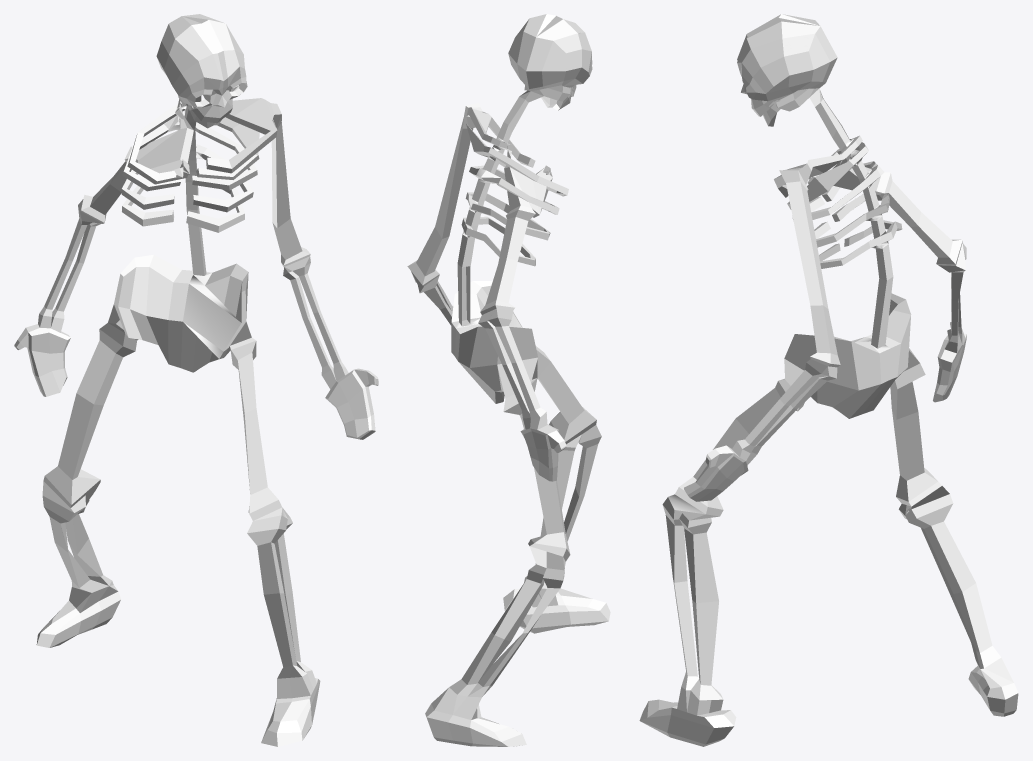
Rendered from SkeletonIdle(2).obj.
3 renders of one model, left to right at view 1: azimuth 30°, elevation 25°; view 2: azimuth 150°, elevation 25°; view 3: azimuth 270°, elevation 25°, orthographic. The views are drawn at different scales.
Parts seen in each view (by area): view 1: Object002; view 2: Object002; view 3: Object002.
Part boxes in pixels (x1,y1,x2,y2): Object002: (14,14,378,746); Object002: (407,14,610,746); Object002: (639,14,1018,746).
Size of the model in its own units: 415 by 1122 by 556.
